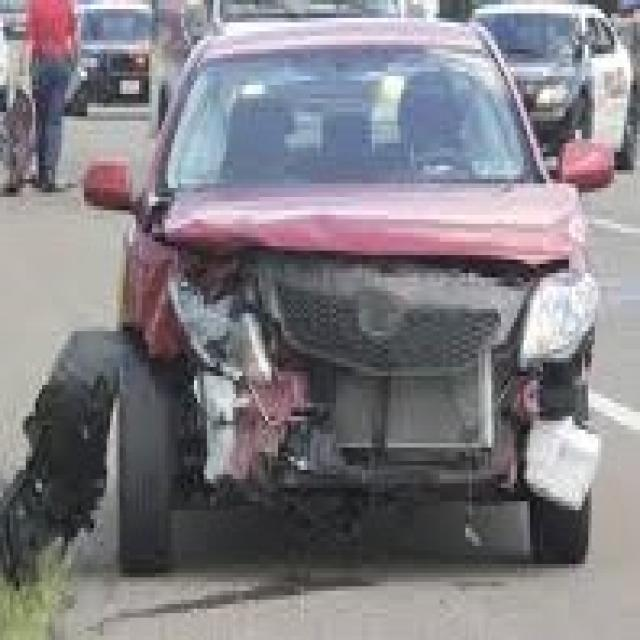moderate: (13, 206, 640, 640)
